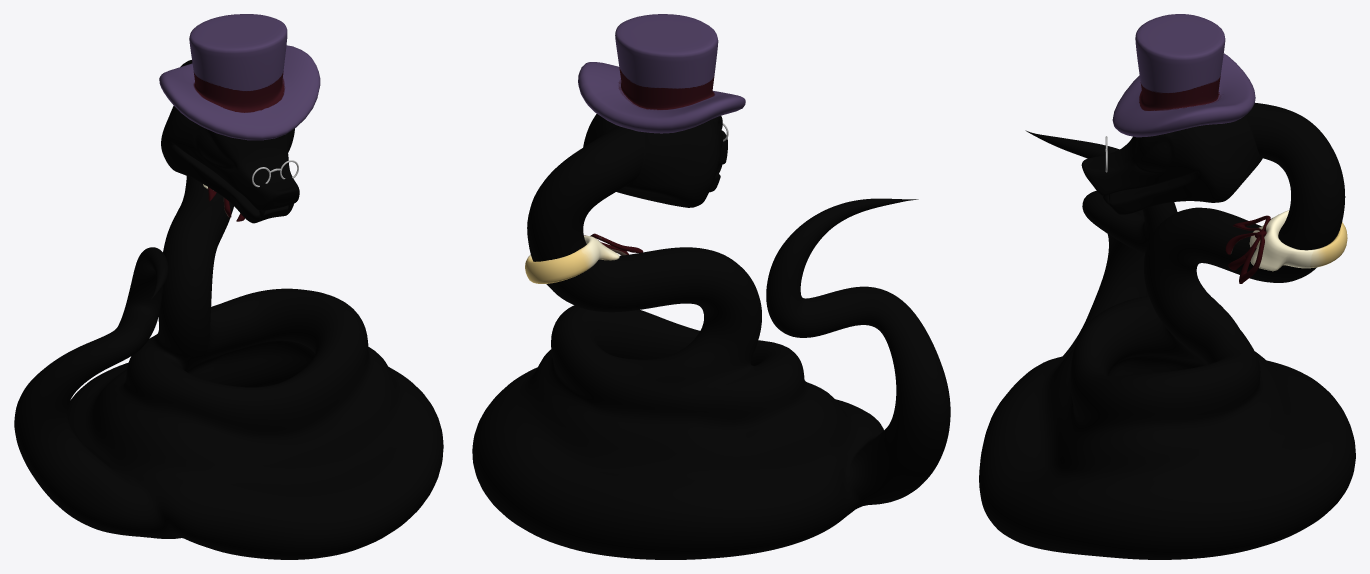
Rendered from Snake_MESH (use this).fbx.
The picture shows the model from 3 angles, left to right: view 1: azimuth 30°, elevation 25°; view 2: azimuth 150°, elevation 25°; view 3: azimuth 270°, elevation 25°; orthographic projection. The views are drawn at different scales.
Visible parts, largest first — view 1: Snake RETOPO LO, Hat RETOPO LO; view 2: Snake RETOPO LO, Hat RETOPO LO, Tie RETOPO LO; view 3: Snake RETOPO LO, Hat RETOPO LO, Tie RETOPO LO.
Boxes of the visible parts, box(x1,y1,x2,y2) form: Snake RETOPO LO: box(14, 60, 443, 559); Hat RETOPO LO: box(159, 14, 320, 140); Snake RETOPO LO: box(472, 114, 950, 559); Hat RETOPO LO: box(578, 14, 745, 133); Tie RETOPO LO: box(525, 233, 643, 283); Snake RETOPO LO: box(979, 103, 1355, 559); Hat RETOPO LO: box(1112, 14, 1255, 137); Tie RETOPO LO: box(1225, 210, 1347, 283).
Size of the model in its own units: 1112 by 1197 by 858.
4 materials, 2 textured.
